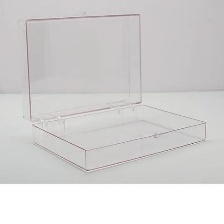plastic_box: (8, 4, 212, 178)
